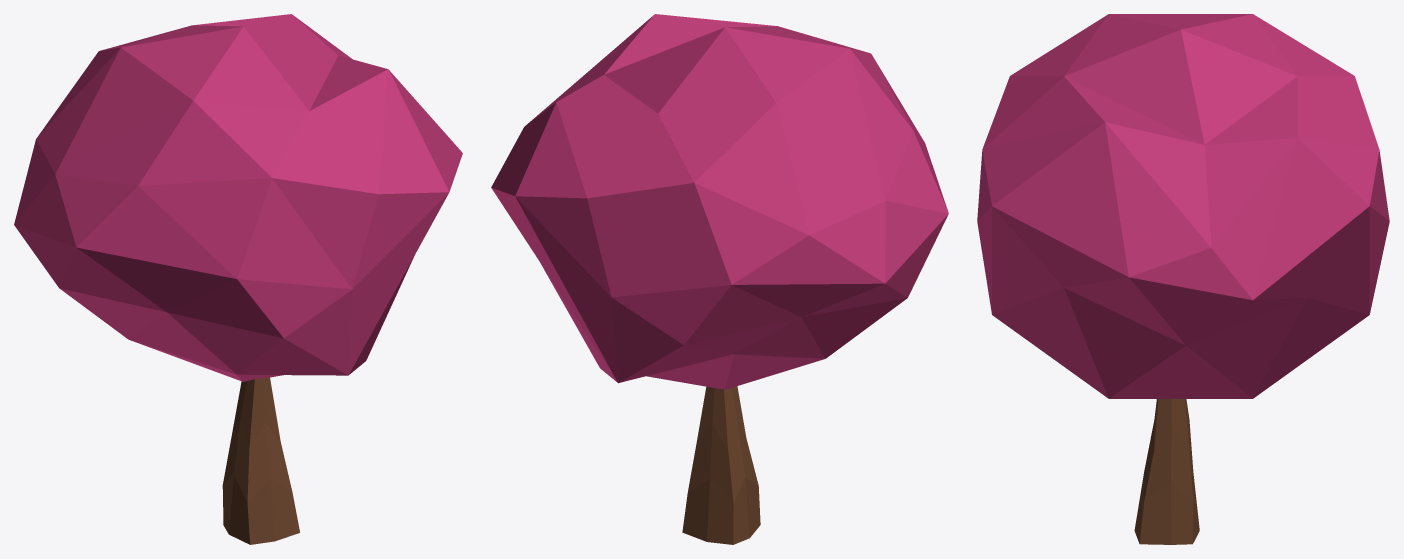
The model's file is Tree_48_Pink.fbx.
The picture shows the model from 3 angles, left to right: view 1: azimuth 30°, elevation 25°; view 2: azimuth 150°, elevation 25°; view 3: azimuth 270°, elevation 25°; orthographic projection. The views are drawn at different scales.
Visible parts, largest first — view 1: Tree_48_Pink_Part_1, Tree_48_Pink_Part_2; view 2: Tree_48_Pink_Part_1, Tree_48_Pink_Part_2; view 3: Tree_48_Pink_Part_1, Tree_48_Pink_Part_2.
Boxes of the visible parts, bbox=[...] form: Tree_48_Pink_Part_1: bbox=[14, 14, 462, 381]; Tree_48_Pink_Part_2: bbox=[222, 377, 299, 544]; Tree_48_Pink_Part_1: bbox=[491, 14, 948, 389]; Tree_48_Pink_Part_2: bbox=[682, 386, 760, 544]; Tree_48_Pink_Part_1: bbox=[977, 14, 1389, 398]; Tree_48_Pink_Part_2: bbox=[1134, 399, 1199, 544].
Bounding box in the file's own units: 564 × 696 × 524.
